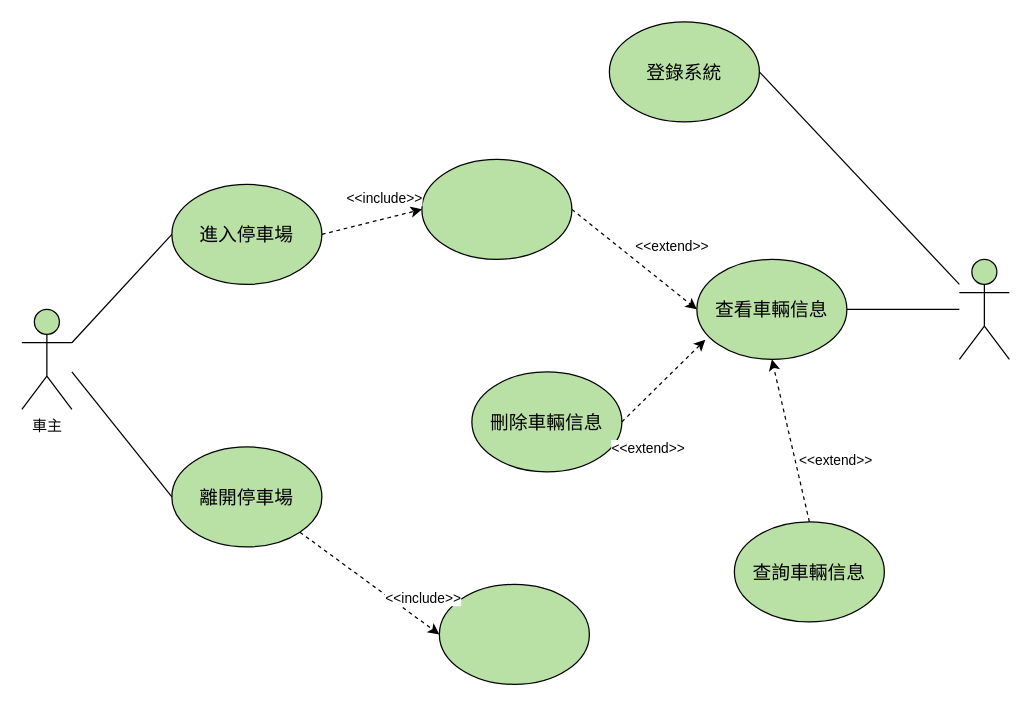
Image size: 1031x706. Some labels were removed from this diagram. Here are the shapes that lost their labels. From the top down, the box of each, then its label:
(421, 158, 572, 259): 添加車輛信息
(958, 258, 1009, 359): 管理員
(438, 583, 589, 684): 支付費用
